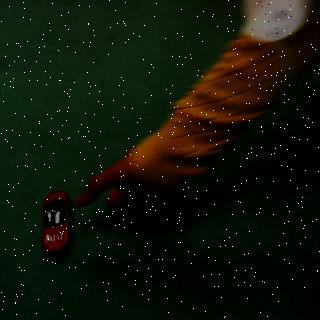car: (38, 189, 76, 262)
